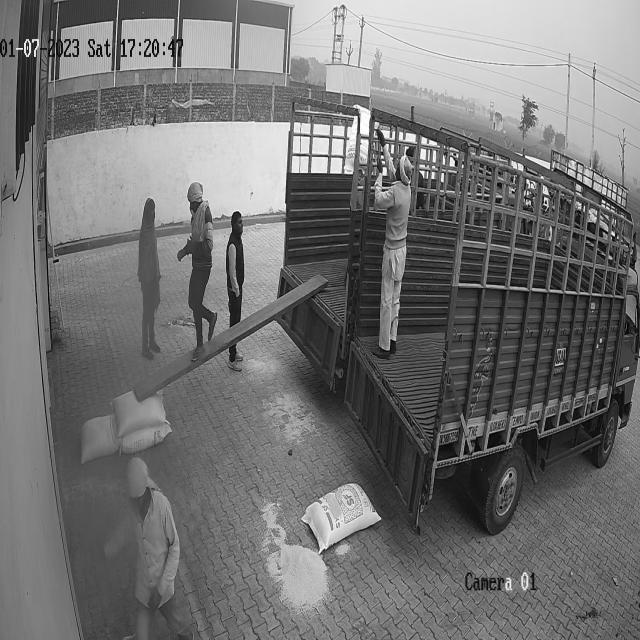sack: (302, 482, 381, 553), (110, 390, 166, 435), (79, 413, 119, 462), (119, 422, 172, 454)
